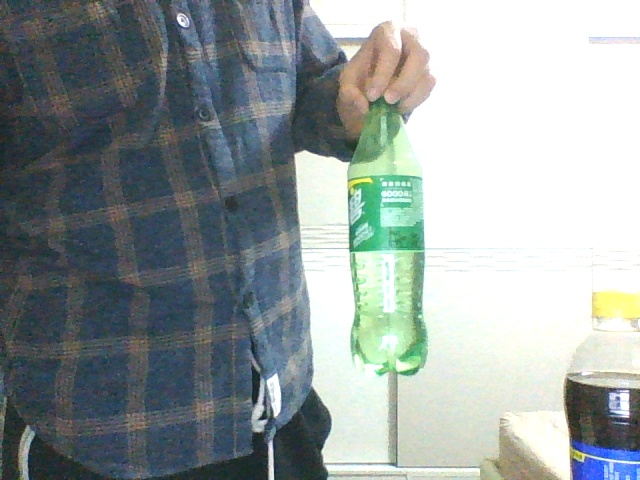Cola: (562, 292, 638, 479)
Sprite: (347, 75, 426, 374)
